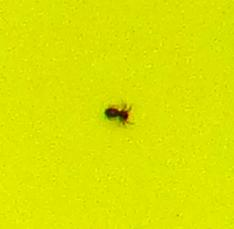Araneae: (100, 100, 134, 129)
